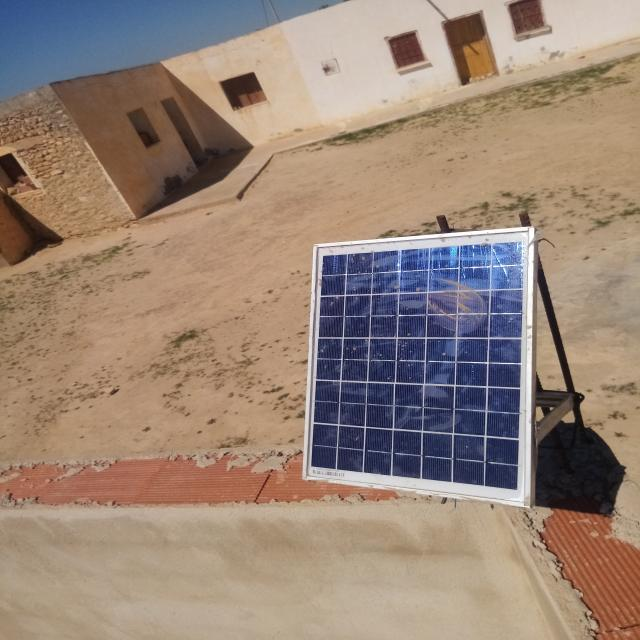faulty: (304, 228, 534, 505)
